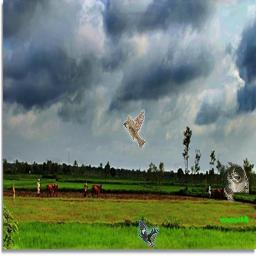Sparrow: (123, 109, 145, 147)
Swallow: (216, 162, 249, 202)
Woodpecker: (137, 220, 159, 247)
